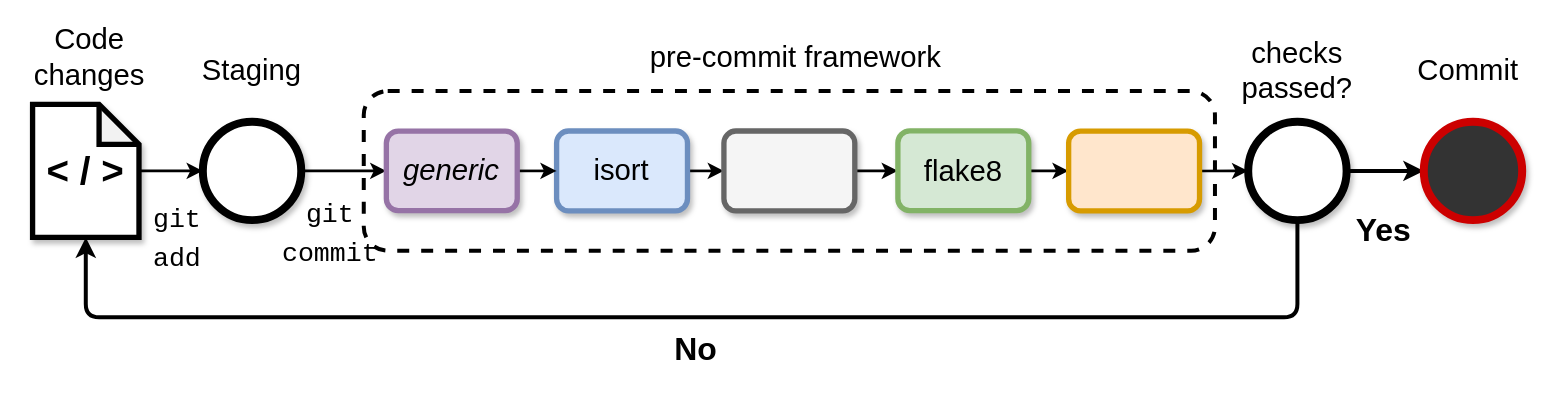
Image size: 1559x394. Some labels were removed from this diagram. Here are the shapes that lost their labels. From the top down, the centre of each, then its label:
At point 790,172: "black".
At point 1135,172: "mypy".
